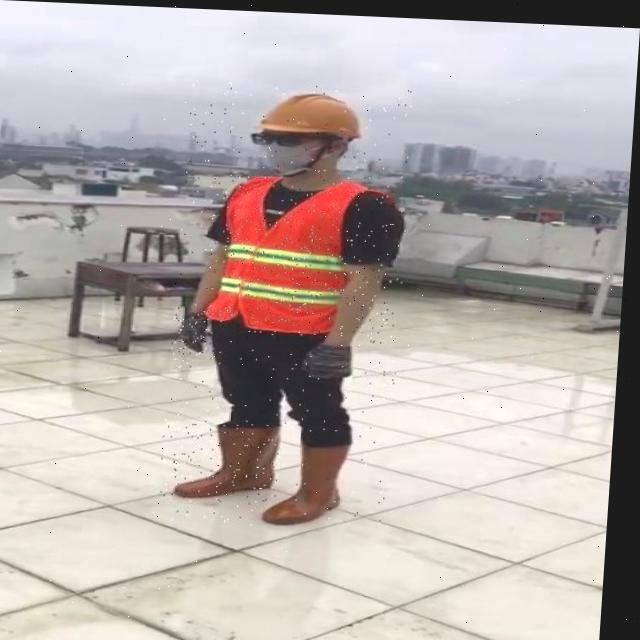Gloves: (306, 339, 359, 377), (185, 308, 214, 350)
Safety-Boot: (181, 416, 289, 498), (270, 436, 358, 524)
Safety-Vest: (206, 169, 390, 334)
